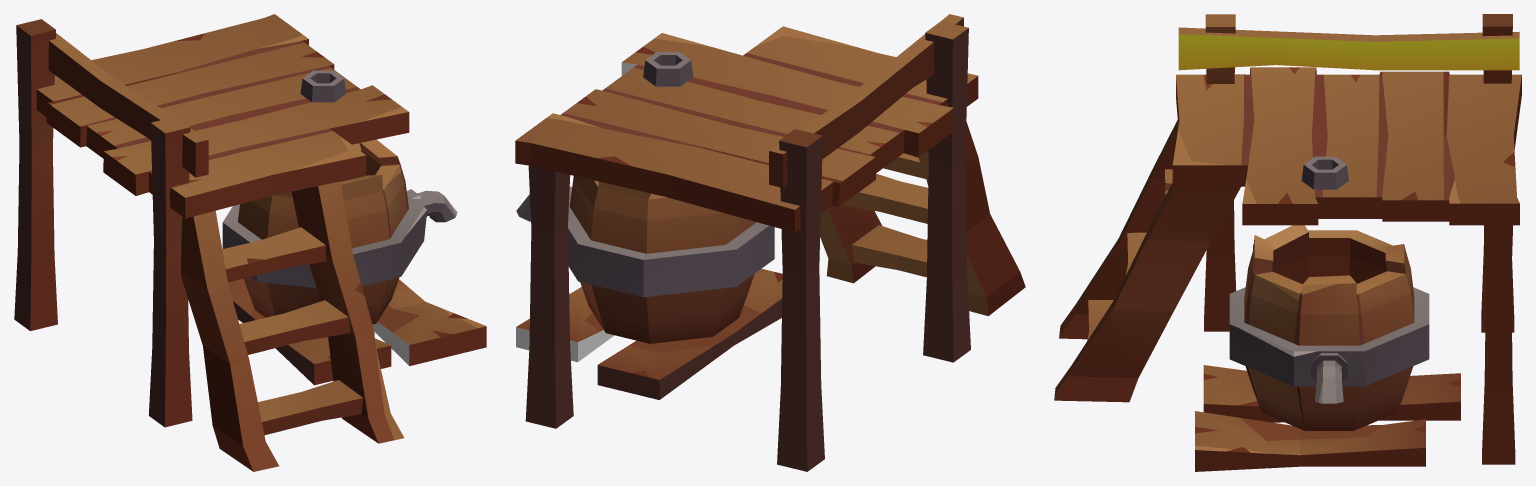
Rendered from mashine1_lvl1.fbx.
3 views of the same model, side by side, from view 1: azimuth 30°, elevation 25°; view 2: azimuth 150°, elevation 25°; view 3: azimuth 270°, elevation 25° (orthographic). The views are drawn at different scales.
Visible parts, largest first — view 1: Cube.149; view 2: Cube.149; view 3: Cube.149.
Part boxes in pixels (x1,y1,x2,y2): Cube.149: [14, 14, 486, 471]; Cube.149: [515, 14, 1025, 471]; Cube.149: [1054, 14, 1521, 471].
Bounding box in the file's own units: 98.46 × 81.96 × 108.
